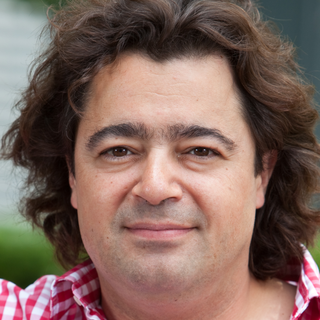eye: (176, 141, 226, 164), (97, 140, 144, 164)
